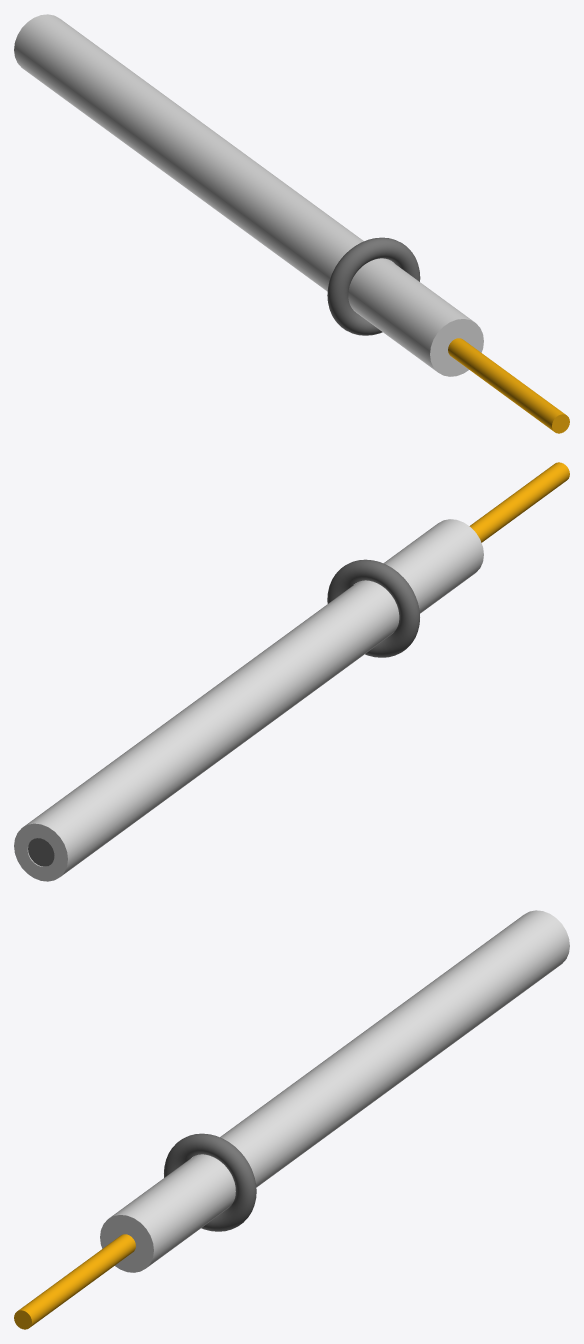
File: glassy carbon working electrode.obj
3 renders of one model, top to bottom at view 1: azimuth 30°, elevation 25°; view 2: azimuth 150°, elevation 25°; view 3: azimuth 330°, elevation 25°, orthographic.
Visible parts, largest first — view 1: Body1, Body2; view 2: Body1, Body2; view 3: Body1, Body2.
Boxes of the visible parts, x1,y1,x2,y2 form: Body1: [14, 14, 569, 433]; Body2: [327, 237, 420, 335]; Body1: [14, 462, 569, 881]; Body2: [327, 559, 419, 657]; Body1: [14, 910, 569, 1329]; Body2: [164, 1133, 256, 1231].
Size of the model in its own units: 1 by 0.9972 by 10.
